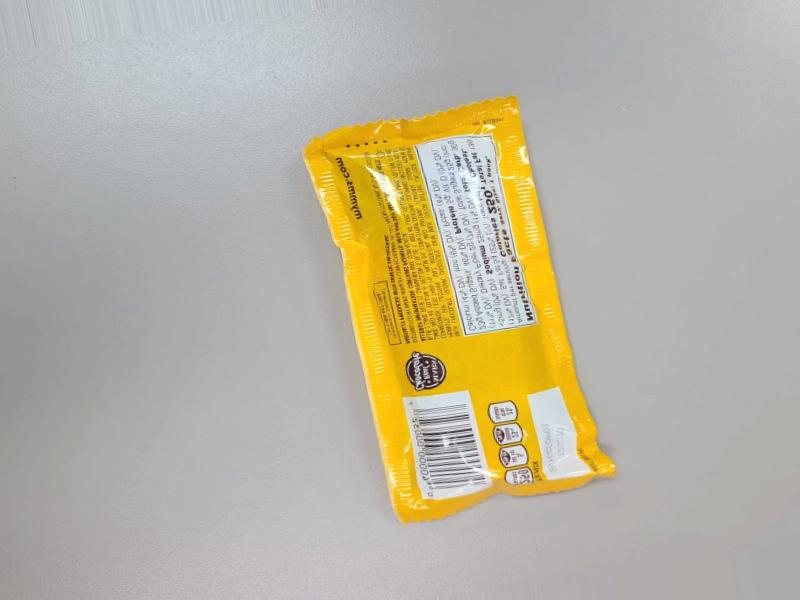m&m: (296, 54, 609, 535)
